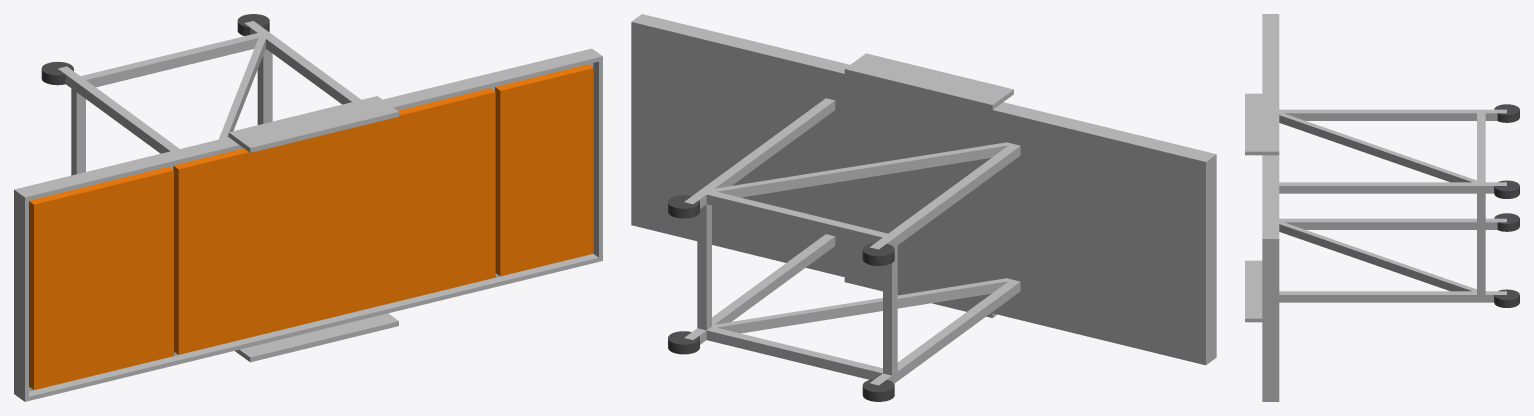
The model's file is gurney.dae.
3 views of the same model, side by side, from view 1: azimuth 30°, elevation 25°; view 2: azimuth 150°, elevation 25°; view 3: azimuth 270°, elevation 25° (orthographic). The views are drawn at different scales.
Parts seen in each view (by area): view 1: coords_ME_ID39_MA_Color_C01, coords_ME_ID51_MA_Color_C01, coords_ME_ID19_MA_Color_002, coords_ME_ID11_MA_Color_C01, coords_ME_ID3_MA_Color_002, coords_ME_ID25_MA_Color_002, coords_ME_ID57_MA_material; view 2: coords_ME_ID19_MA_Color_002, coords_ME_ID3_MA_Color_002, coords_ME_ID63_MA_material, coords_ME_ID57_MA_material, coords_ME_ID31_MA_material, coords_ME_ID45_MA_material; view 3: coords_ME_ID3_MA_Color_002, coords_ME_ID19_MA_Color_002, coords_ME_ID45_MA_material, coords_ME_ID31_MA_material, coords_ME_ID57_MA_material, coords_ME_ID63_MA_material.
Part boxes in pixels (left/top/right/bottom): coords_ME_ID39_MA_Color_C01: left=173, top=88, right=495, bottom=354; coords_ME_ID51_MA_Color_C01: left=29, top=166, right=173, bottom=389; coords_ME_ID19_MA_Color_002: left=14, top=48, right=602, bottom=401; coords_ME_ID11_MA_Color_C01: left=495, top=64, right=593, bottom=276; coords_ME_ID3_MA_Color_002: left=58, top=21, right=361, bottom=175; coords_ME_ID25_MA_Color_002: left=29, top=61, right=598, bottom=396; coords_ME_ID57_MA_material: left=41, top=61, right=73, bottom=85; coords_ME_ID19_MA_Color_002: left=631, top=14, right=1216, bottom=365; coords_ME_ID3_MA_Color_002: left=684, top=98, right=1020, bottom=385; coords_ME_ID63_MA_material: left=862, top=379, right=894, bottom=401; coords_ME_ID57_MA_material: left=862, top=243, right=894, bottom=265; coords_ME_ID31_MA_material: left=668, top=331, right=699, bottom=354; coords_ME_ID45_MA_material: left=668, top=195, right=699, bottom=218; coords_ME_ID3_MA_Color_002: left=1279, top=109, right=1506, bottom=302; coords_ME_ID19_MA_Color_002: left=1245, top=14, right=1279, bottom=401; coords_ME_ID45_MA_material: left=1494, top=180, right=1519, bottom=198; coords_ME_ID31_MA_material: left=1494, top=289, right=1519, bottom=307; coords_ME_ID57_MA_material: left=1494, top=104, right=1519, bottom=122; coords_ME_ID63_MA_material: left=1494, top=213, right=1519, bottom=231.
Size of the model in its own units: 21.95 by 7.78 by 11.34.
